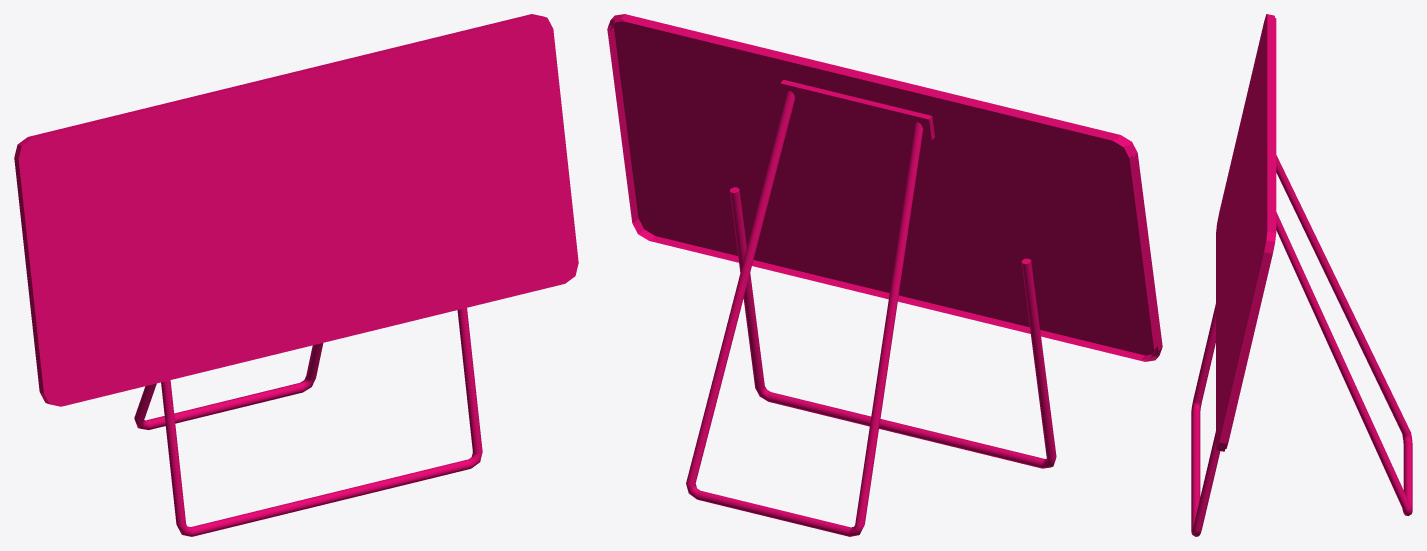
File: Road_Sign_03_Lod0.fbx
3 renders of one model, left to right at view 1: azimuth 30°, elevation 25°; view 2: azimuth 150°, elevation 25°; view 3: azimuth 270°, elevation 25°, orthographic. The views are drawn at different scales.
Visible parts, largest first — view 1: Road_Sign_03_Lod0; view 2: Road_Sign_03_Lod0; view 3: Road_Sign_03_Lod0.
Boxes of the visible parts, box(x1,y1,x2,y2) form: Road_Sign_03_Lod0: box(14, 14, 578, 536); Road_Sign_03_Lod0: box(607, 14, 1162, 536); Road_Sign_03_Lod0: box(1191, 14, 1412, 536).
Bounding box in the file's own units: 97.81 × 69.45 × 39.71.
